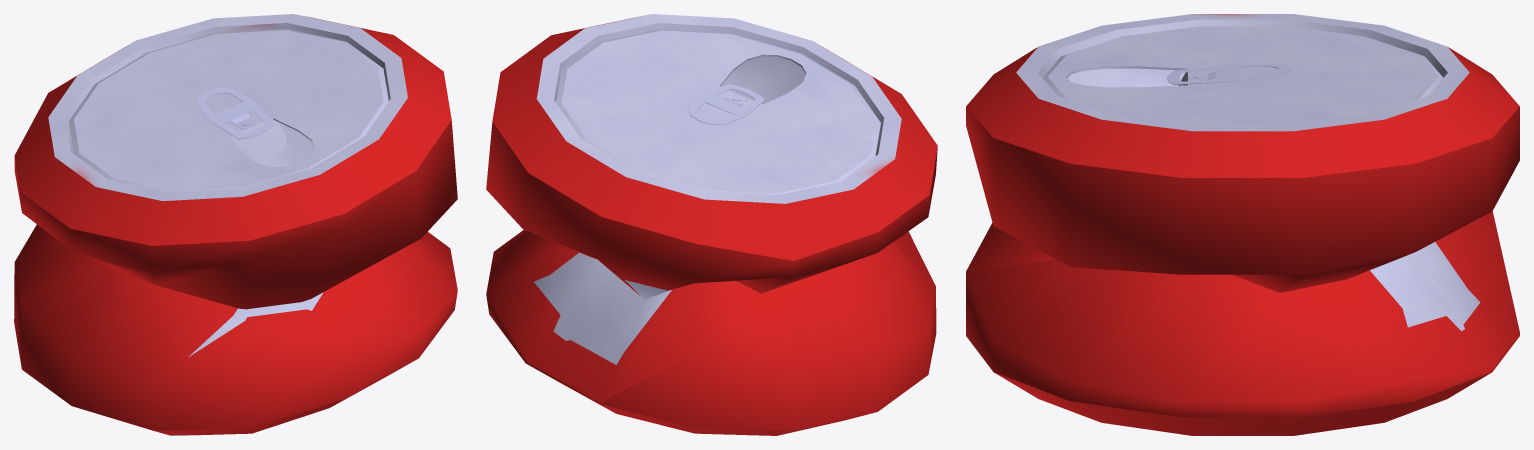
File: Can1Broke.fbx
3 views of the same model, side by side, from view 1: azimuth 30°, elevation 25°; view 2: azimuth 150°, elevation 25°; view 3: azimuth 270°, elevation 25° (orthographic). The views are drawn at different scales.
Parts seen in each view (by area): view 1: Can1Broke; view 2: Can1Broke; view 3: Can1Broke.
Part boxes in pixels (x1,y1,x2,y2): Can1Broke: (14,14,457,435); Can1Broke: (486,14,937,435); Can1Broke: (966,14,1519,435).
Size of the model in its own units: 0.0797 by 0.0573 by 0.0815.
